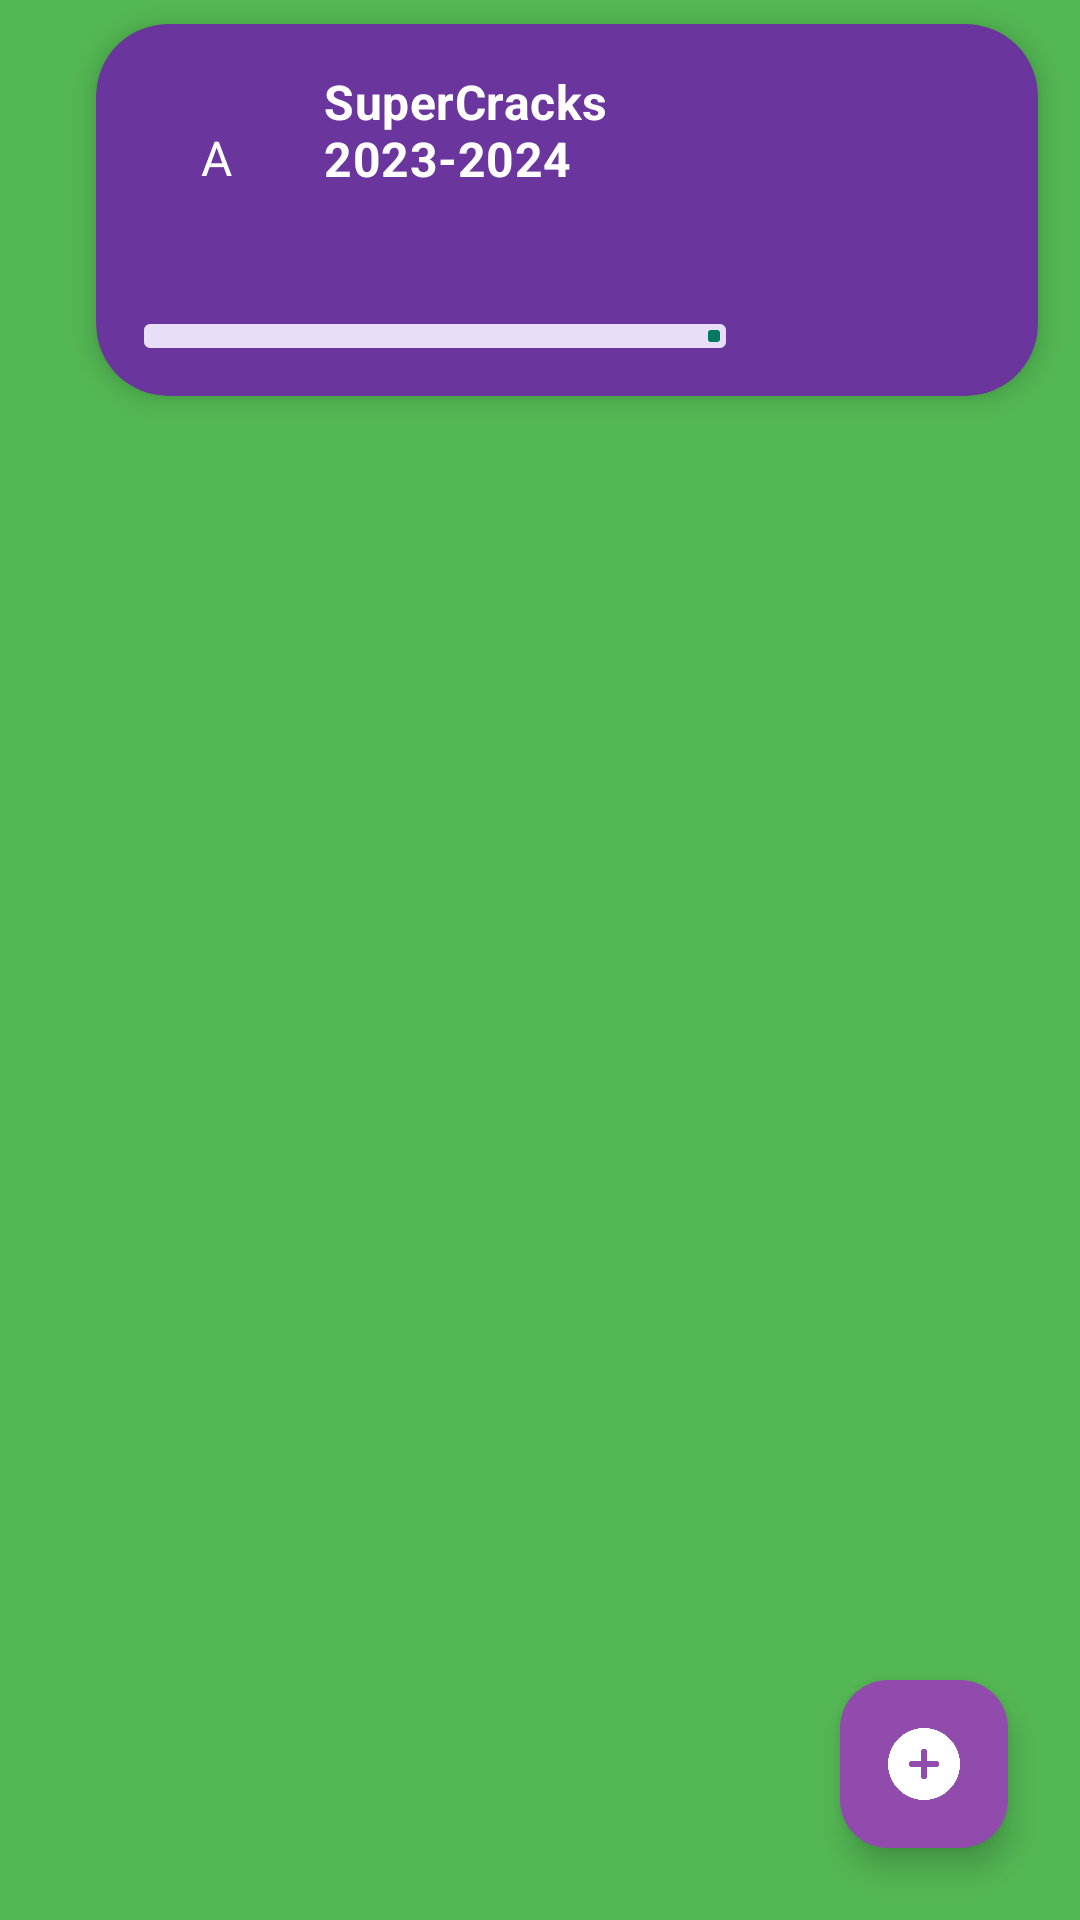

Icon click points for this 1080px x 1920px phone screenshot, format (x,y):
Añadir cromo: (924,1764)
